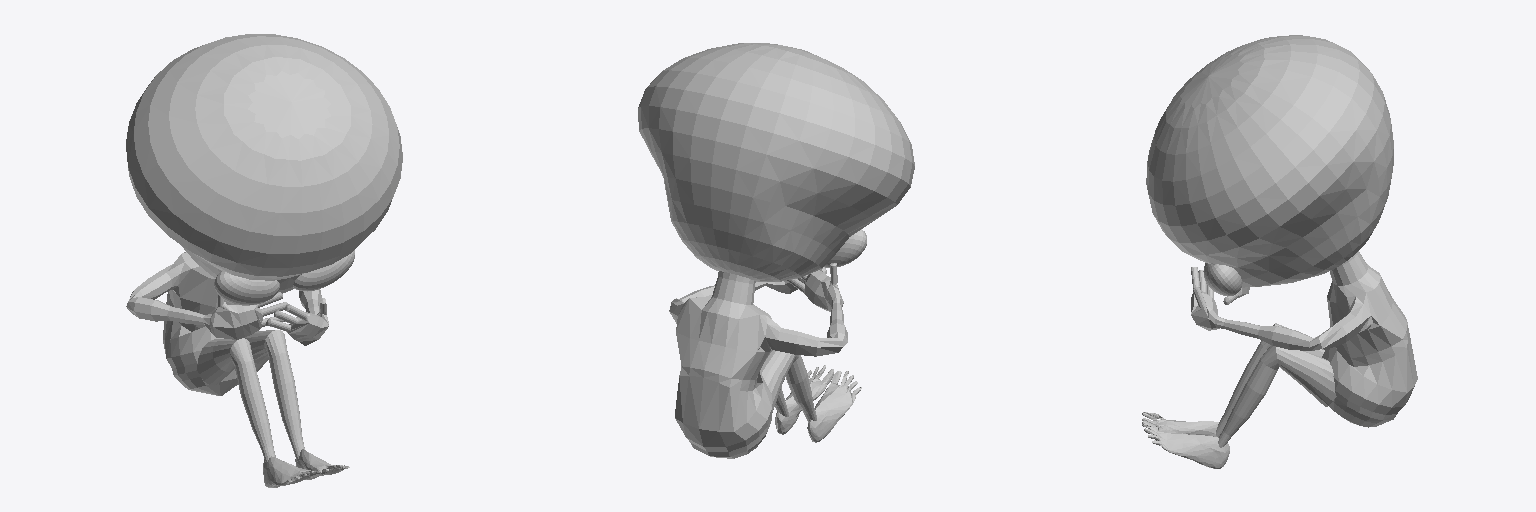
File: alien.obj
3 views of the same model, side by side, from view 1: azimuth 30°, elevation 25°; view 2: azimuth 150°, elevation 25°; view 3: azimuth 270°, elevation 25° (orthographic).
Size of the model in its own units: 1.19 by 1.85 by 1.13.